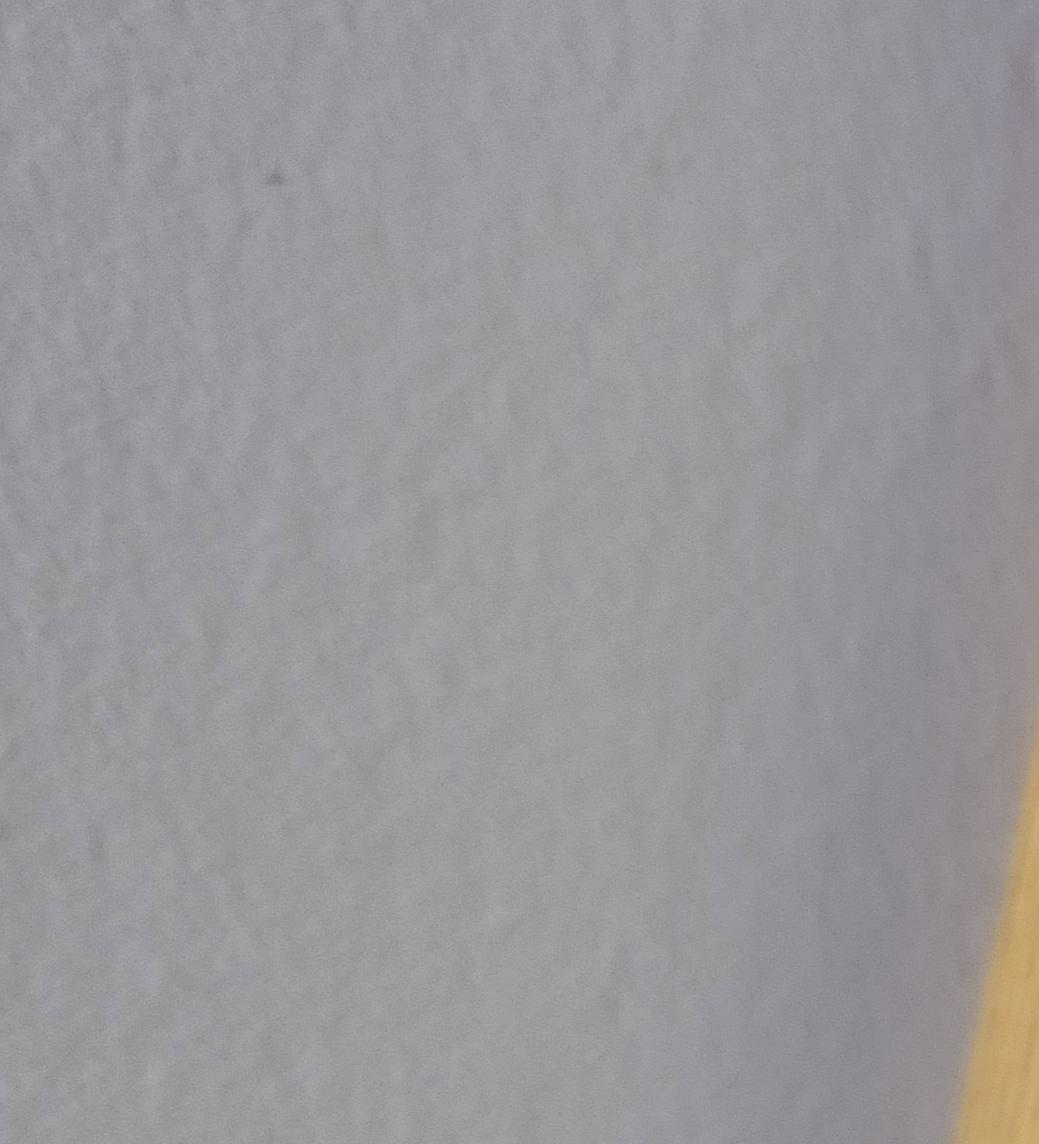Chip: (1, 246, 749, 1144)
